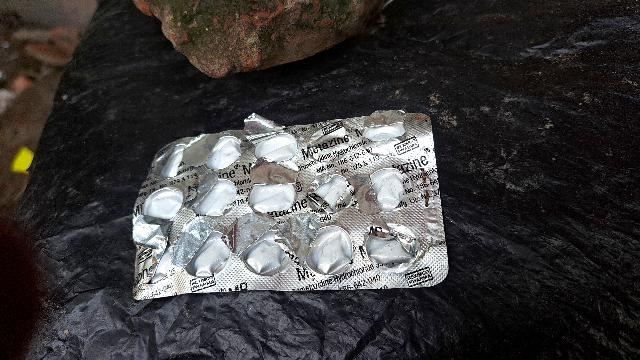medicine: (122, 102, 458, 302)
